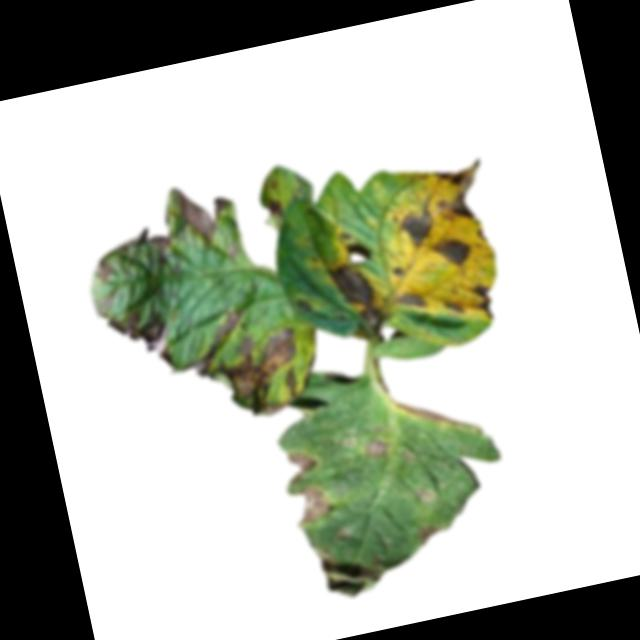Early_blight: (172, 299, 315, 432), (312, 532, 400, 607), (327, 255, 393, 349), (422, 155, 494, 229), (104, 306, 175, 381), (174, 179, 237, 248), (392, 387, 471, 442), (290, 484, 334, 529), (395, 207, 437, 251), (431, 233, 476, 273), (281, 448, 321, 488), (470, 282, 499, 323), (393, 287, 432, 315), (363, 436, 393, 464), (415, 522, 443, 547), (148, 230, 175, 254), (92, 259, 116, 286), (442, 298, 468, 320), (264, 195, 284, 219), (295, 297, 317, 317), (392, 267, 403, 280)
